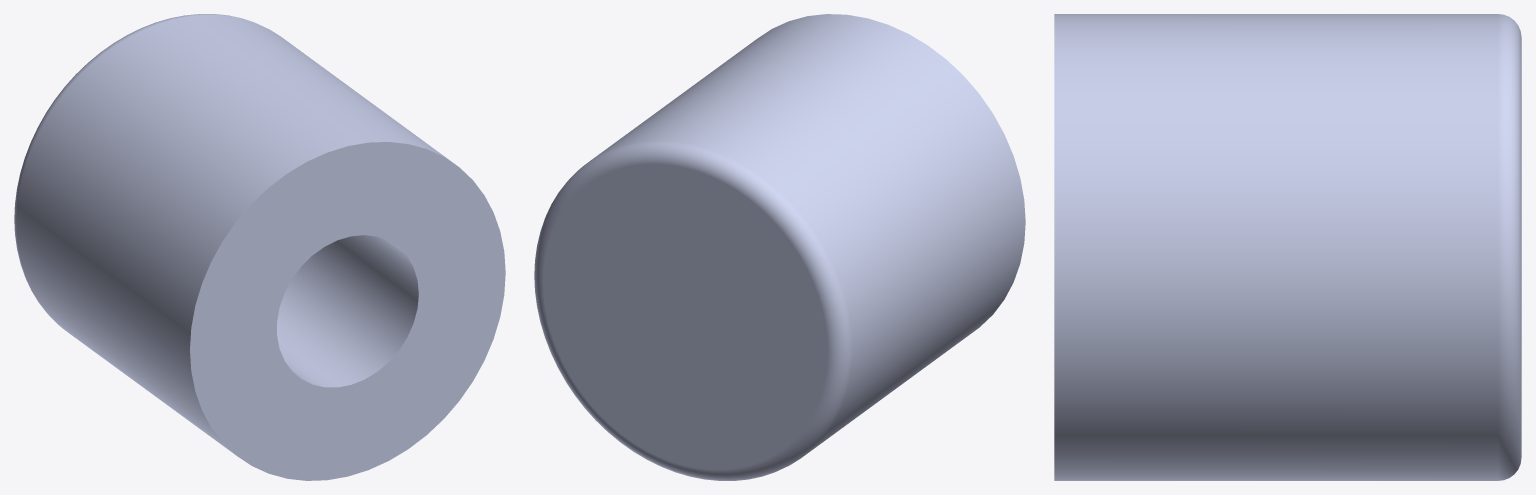
Rendered from Exhaust_Valve_Bucket.glb.
3 views of the same model, side by side, from view 1: azimuth 30°, elevation 25°; view 2: azimuth 150°, elevation 25°; view 3: azimuth 270°, elevation 25° (orthographic). The views are drawn at different scales.
Visible parts, largest first — view 1: Exhaust Valve Bucket; view 2: Exhaust Valve Bucket; view 3: Exhaust Valve Bucket.
Boxes of the visible parts, <box> form: Exhaust Valve Bucket: <box>14,14,505,480</box>; Exhaust Valve Bucket: <box>534,14,1025,480</box>; Exhaust Valve Bucket: <box>1054,14,1521,480</box>.
Bounding box in the file's own units: 0.01 × 0.01 × 0.01.
